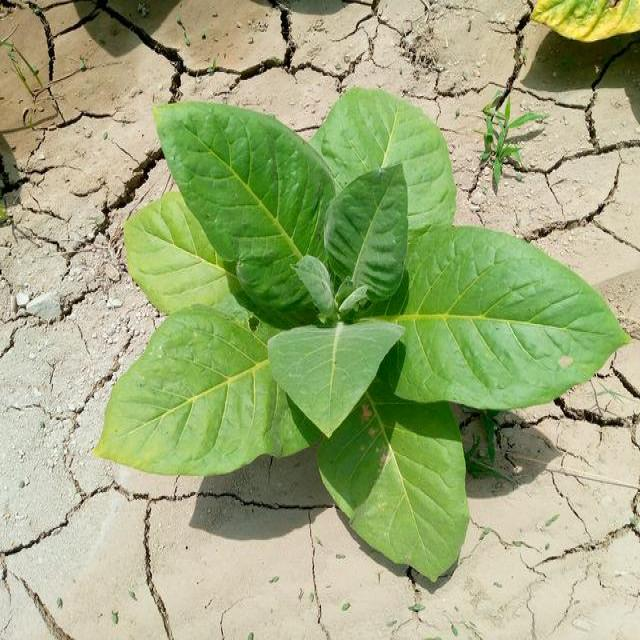crop: (99, 72, 629, 575)
